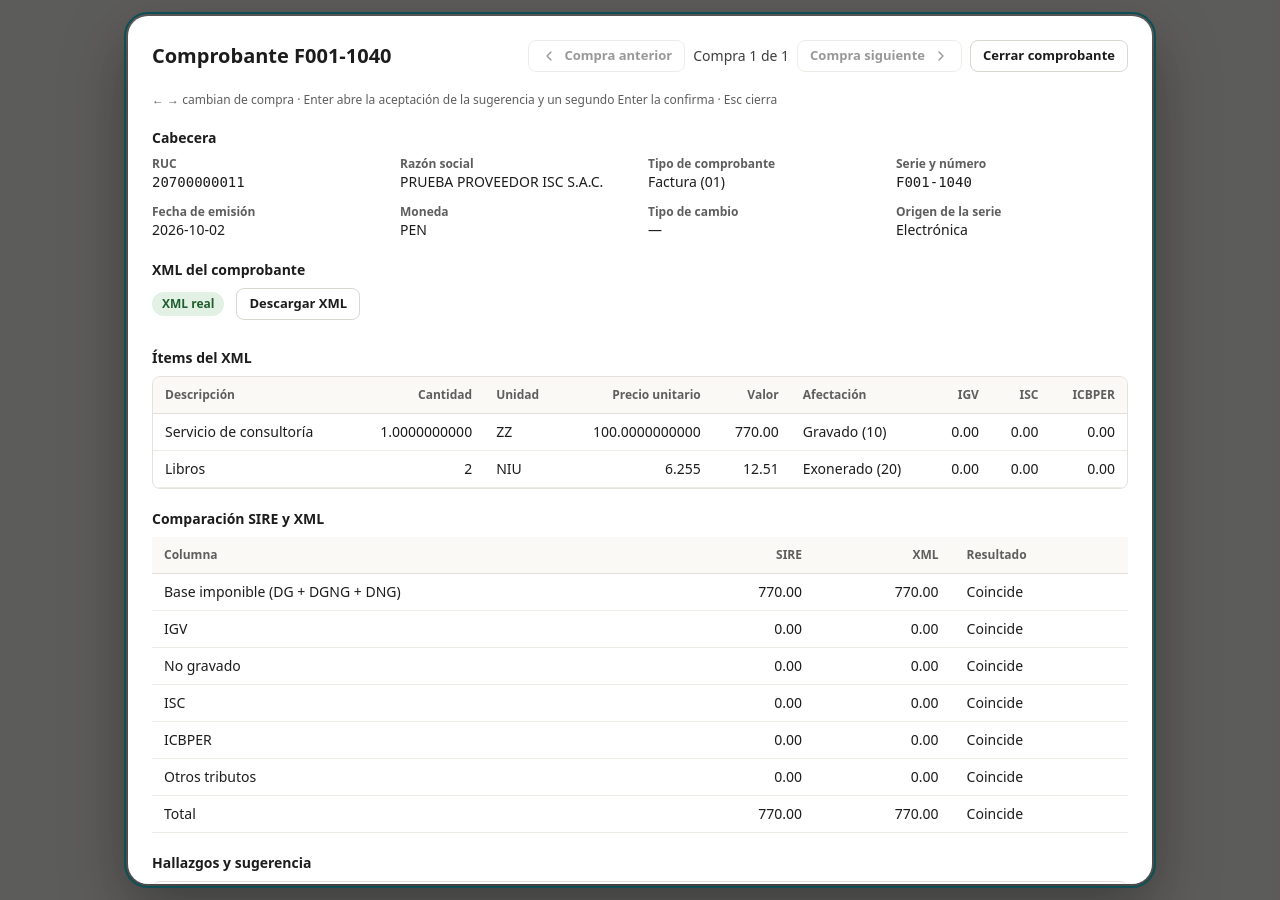
Scenario: Lupa · aceptar la sugerencia (CA-15, 409 y 422 como en la grilla) › feliz: Enter abre la aceptación, Enter la elige, se confirma y la fila se recarga con el aviso
Expected: the element "Cabecera" is shown, [152,128,1128,240]
Press Enter
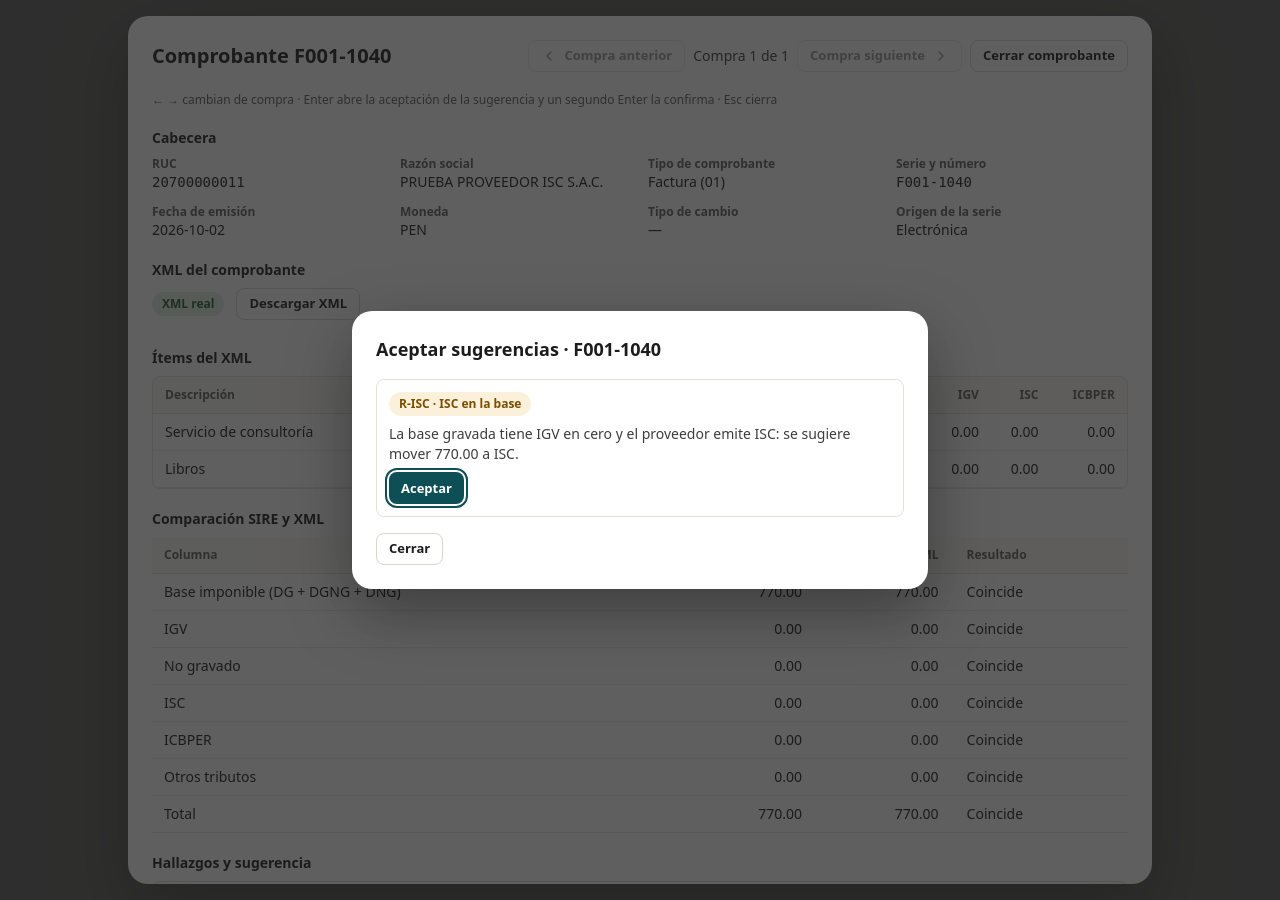
Press Enter
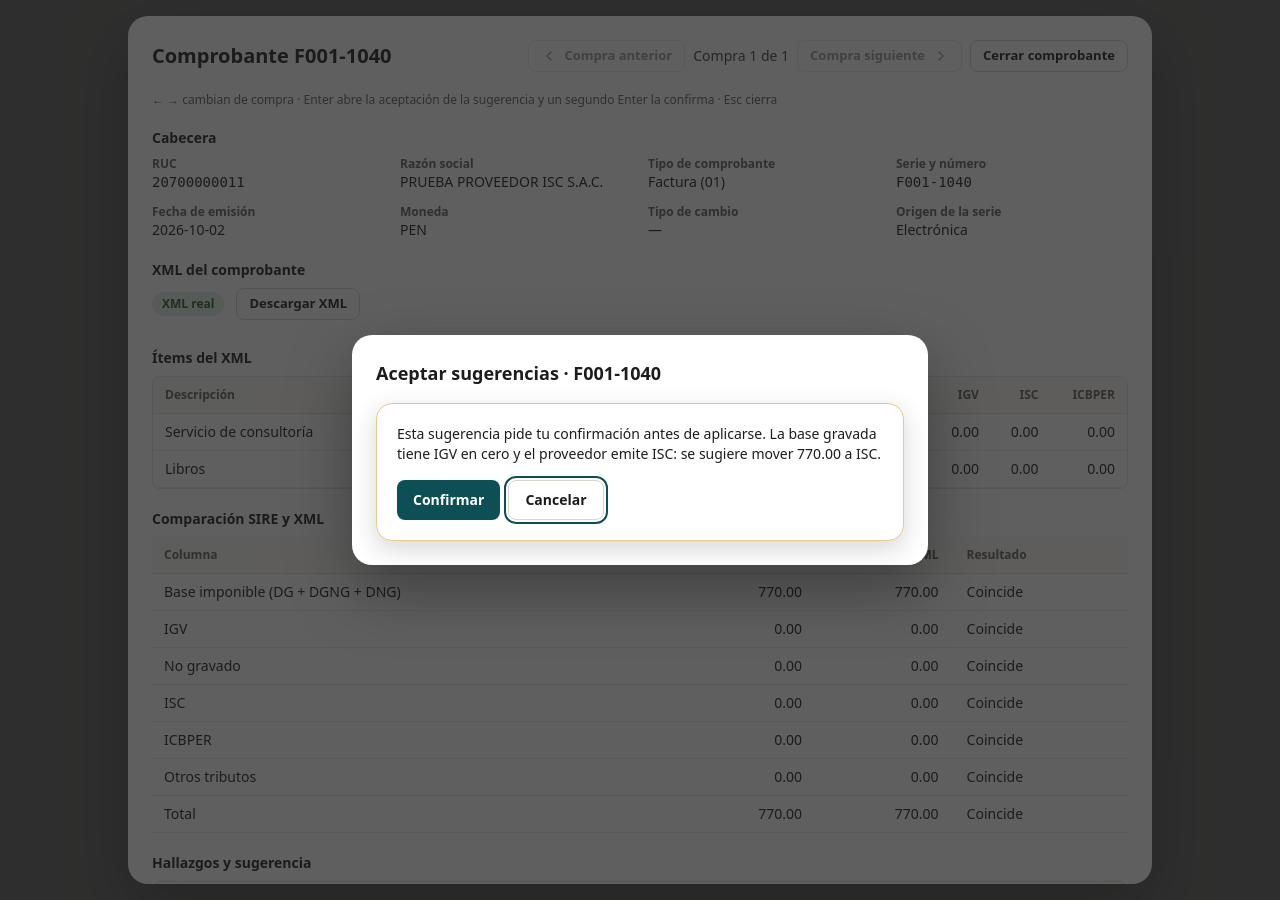
Click the button "Confirmar": [449, 500] box [397,480,500,520]
(page scrolled)
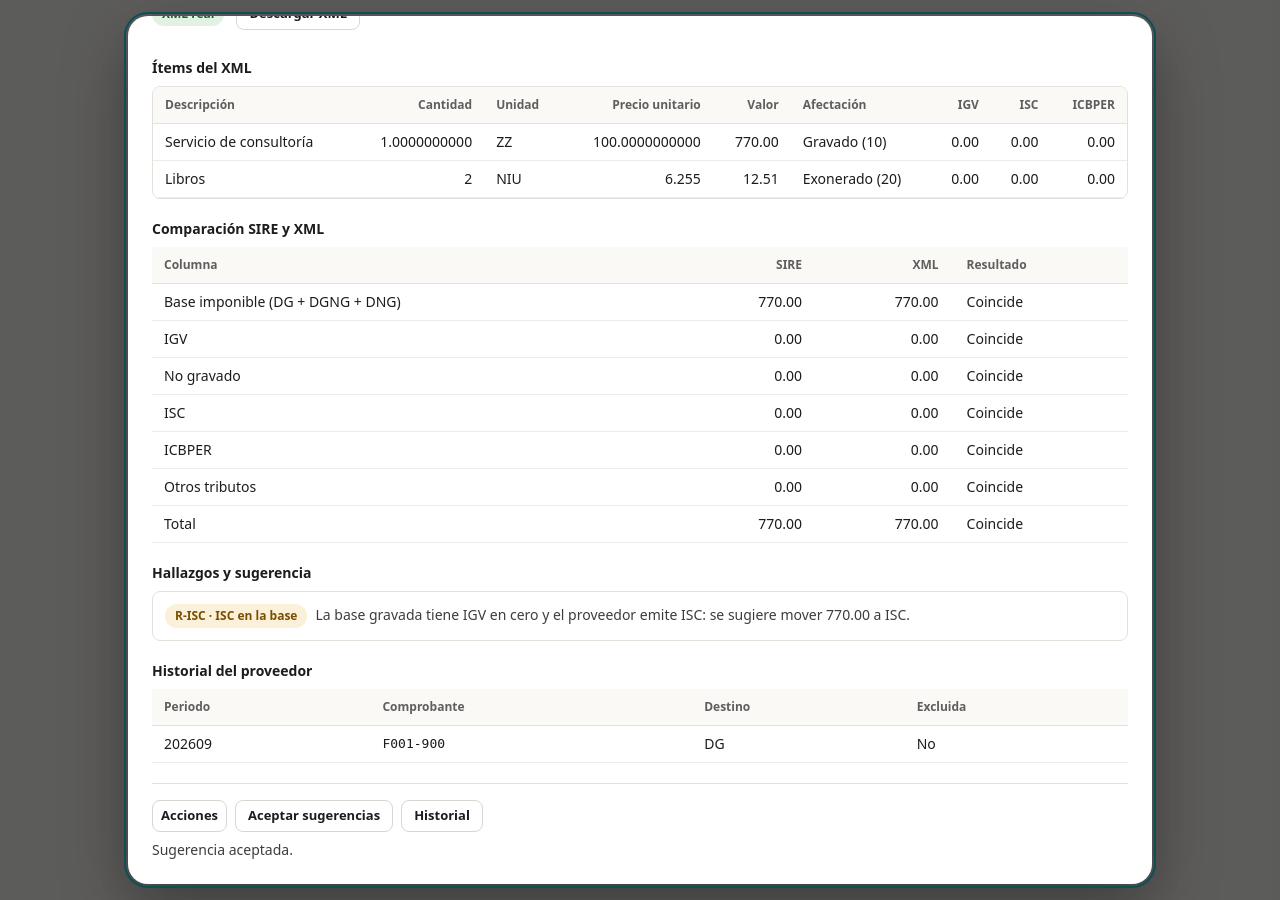
Result: the text "Sugerencia aceptada." is shown at [152,840,293,859]
